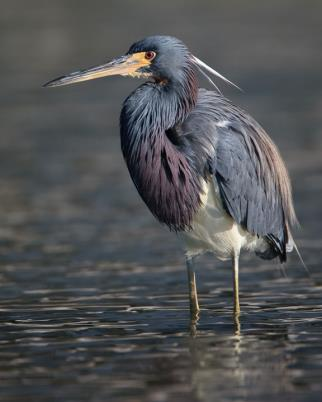heron: (43, 31, 313, 338)
